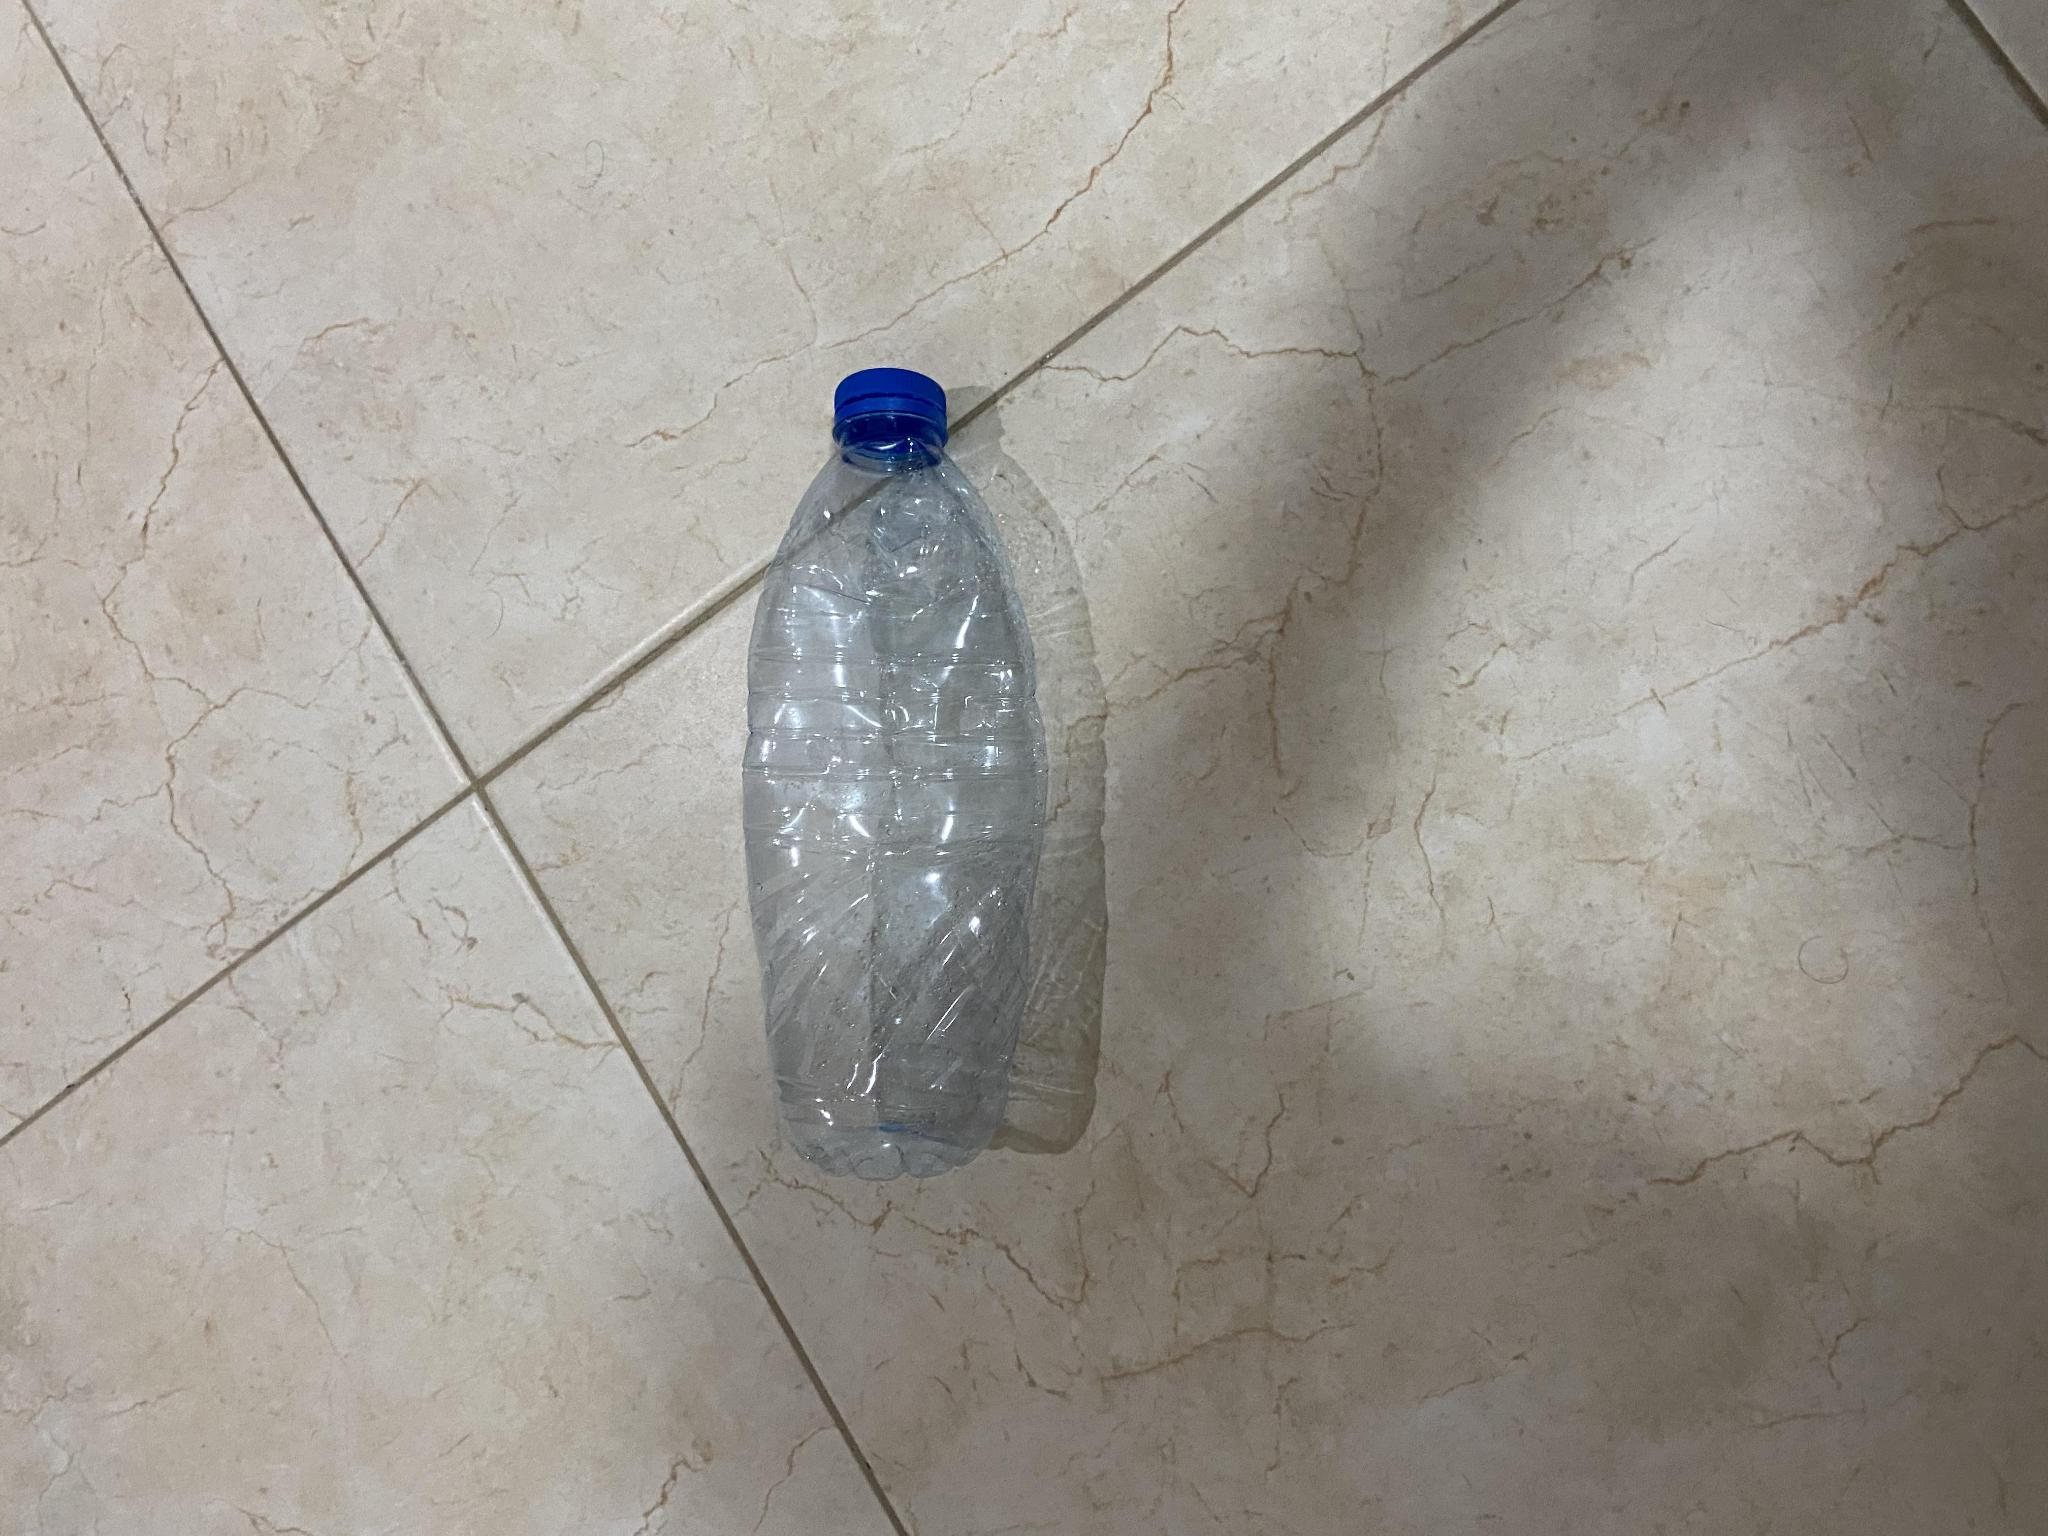bottle: (726, 365, 1050, 1200)
